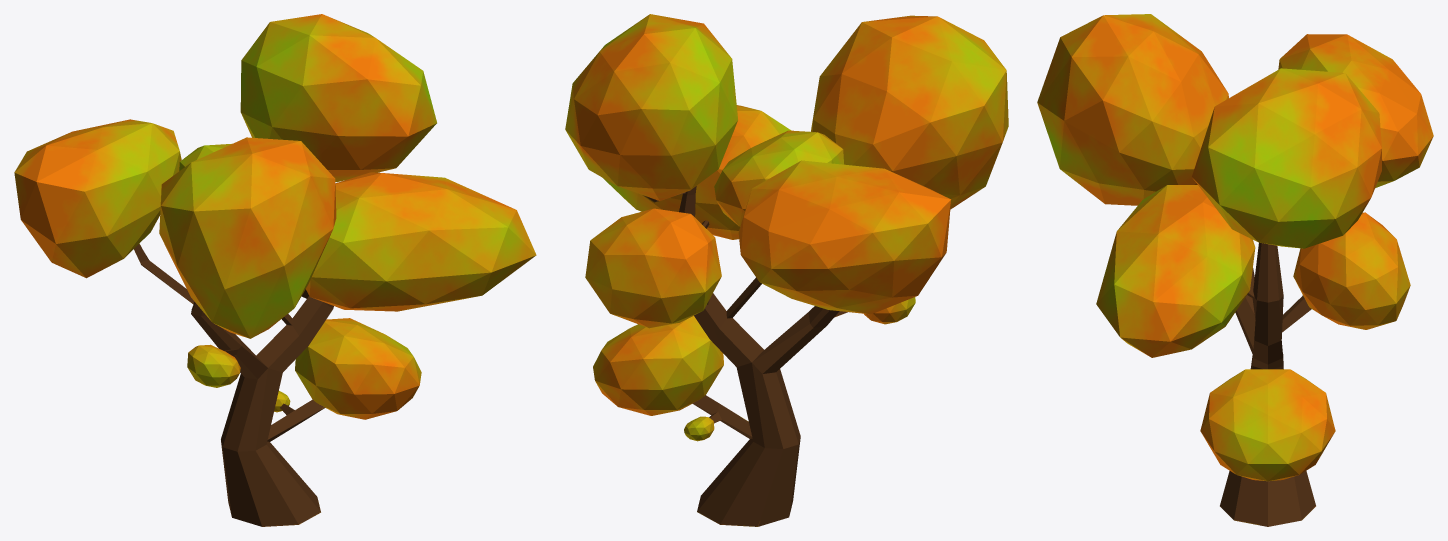
The model's file is FallTree_2.fbx.
3 views of the same model, side by side, from view 1: azimuth 30°, elevation 25°; view 2: azimuth 150°, elevation 25°; view 3: azimuth 270°, elevation 25° (orthographic). The views are drawn at different scales.
Visible parts, largest first — view 1: FallTree_2; view 2: FallTree_2; view 3: FallTree_2.
Part boxes in pixels (x1,y1,x2,y2): FallTree_2: (14,14,536,526); FallTree_2: (565,14,1008,526); FallTree_2: (1037,14,1433,526).
Bounding box in the file's own units: 330 × 348 × 273.
1 material, 1 textured.
